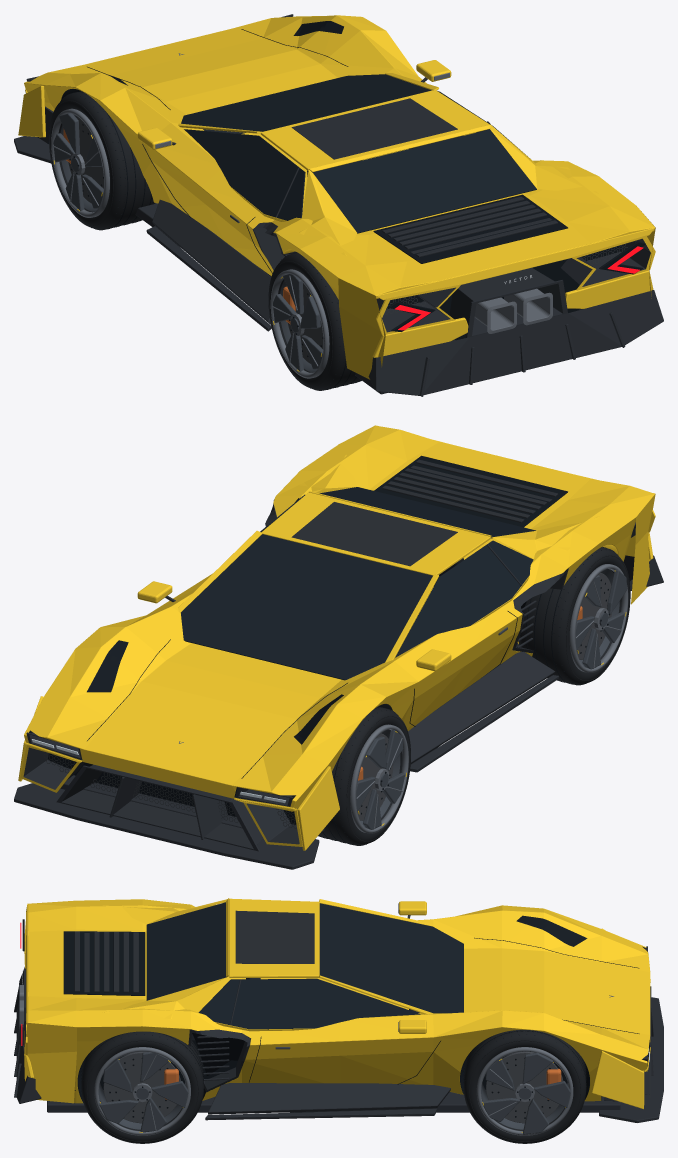
Rendered from Vector_V05.fbx.
The picture shows the model from 3 angles, top to bottom: view 1: azimuth 30°, elevation 25°; view 2: azimuth 150°, elevation 25°; view 3: azimuth 270°, elevation 25°; orthographic projection. The views are drawn at different scales.
Visible parts, largest first — view 1: V05 primary body.001, Rear engine glazing.001, Integrated carbon diffuser shell.001, V05 windscreen.001, Side glazing.002, Inset roof carbon.001, Front tyre.002, Sculpted carbon rocker.002, V05 painted roof.001, Engine hatch recessed tray.001, Rear tyre.002, Rear quarter wrap.002 (+28 smaller); view 2: V05 primary body.001, V05 windscreen.001, Side glazing.002, Inset roof carbon.001, Sculpted carbon rocker.002, Rear tyre.002, Swept carbon front splitter.001, Central wedge mouth deep duct walls.001, V05 painted roof.001, Front tyre.002, Engine hatch recessed tray.001, Rear engine glazing.001 (+26 smaller); view 3: V05 primary body.001, V05 windscreen.001, Side glazing.003, Sculpted carbon rocker.003, Rear engine glazing.001, Front tyre.003, Rear tyre.003, Inset roof carbon.001, Rear quarter wrap.003, Engine hatch recessed tray.001, V05 painted roof.001, Swept carbon front splitter.001 (+33 smaller).
Boxes of the visible parts, <box> form: V05 primary body.001: <box>24,15,654,340</box>; Rear engine glazing.001: <box>313,129,536,233</box>; Integrated carbon diffuser shell.001: <box>368,290,663,395</box>; V05 windscreen.001: <box>181,74,431,131</box>; Side glazing.002: <box>184,129,305,220</box>; Inset roof carbon.001: <box>291,98,457,159</box>; Front tyre.002: <box>49,91,154,230</box>; Sculpted carbon rocker.002: <box>152,199,271,324</box>; V05 painted roof.001: <box>261,90,489,170</box>; Engine hatch recessed tray.001: <box>373,194,567,263</box>; Rear tyre.002: <box>269,252,361,390</box>; Rear quarter wrap.002: <box>338,278,385,379</box>; V05 primary body.001: <box>24,425,654,811</box>; V05 windscreen.001: <box>181,534,432,680</box>; Side glazing.002: <box>395,540,533,657</box>; Inset roof carbon.001: <box>291,502,457,566</box>; Sculpted carbon rocker.002: <box>408,651,555,763</box>; Rear tyre.002: <box>518,547,629,685</box>; Swept carbon front splitter.001: <box>14,783,319,869</box>; Central wedge mouth deep duct walls.001: <box>62,764,262,848</box>; V05 painted roof.001: <box>261,492,490,575</box>; Front tyre.002: <box>318,706,410,845</box>; Engine hatch recessed tray.001: <box>374,455,567,527</box>; Rear engine glazing.001: <box>319,487,535,538</box>; V05 primary body.001: <box>28,899,650,1103</box>; V05 windscreen.001: <box>319,903,463,1013</box>; Side glazing.003: <box>198,978,420,1029</box>; Sculpted carbon rocker.003: <box>208,1083,450,1114</box>; Rear engine glazing.001: <box>146,902,226,1000</box>; Front tyre.003: <box>464,1030,586,1143</box>; Rear tyre.003: <box>81,1031,203,1143</box>; Inset roof carbon.001: <box>235,910,314,963</box>; Rear quarter wrap.003: <box>24,1023,76,1103</box>; Engine hatch recessed tray.001: <box>63,931,145,995</box>; V05 painted roof.001: <box>229,898,319,977</box>; Swept carbon front splitter.001: <box>599,997,663,1122</box>.
Bounding box in the file's own units: 246 × 127 × 510.
